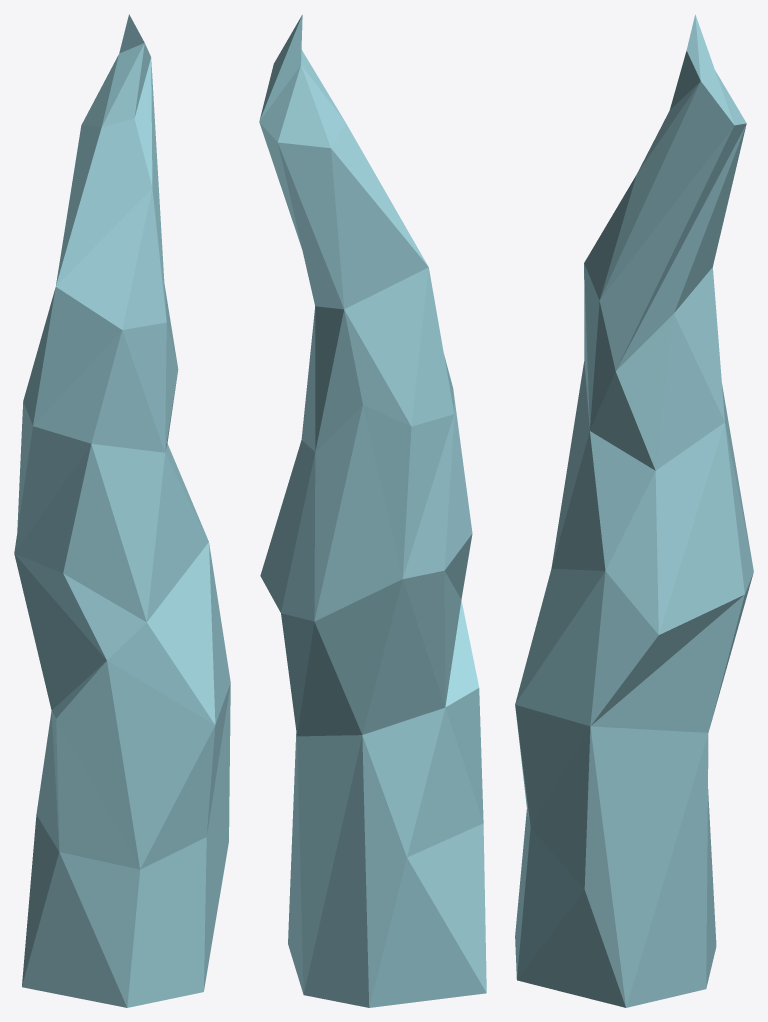
Rendered from icicle.fbx.
3 views of the same model, side by side, from view 1: azimuth 30°, elevation 25°; view 2: azimuth 150°, elevation 25°; view 3: azimuth 270°, elevation 25° (orthographic). The views are drawn at different scales.
Visible parts, largest first — view 1: Cylinder; view 2: Cylinder; view 3: Cylinder.
Part boxes in pixels (<box>): Cylinder: <box>14,14,230,1007</box>; Cylinder: <box>259,14,486,1007</box>; Cylinder: <box>515,14,753,1007</box>.
Bounding box in the file's own units: 911 × 4056 × 898.
